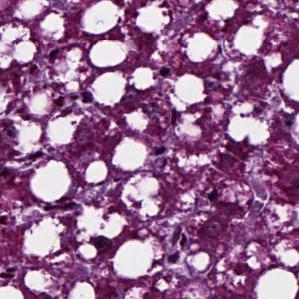steatosis: (33, 157, 73, 204), (113, 238, 154, 278), (89, 39, 128, 67)
